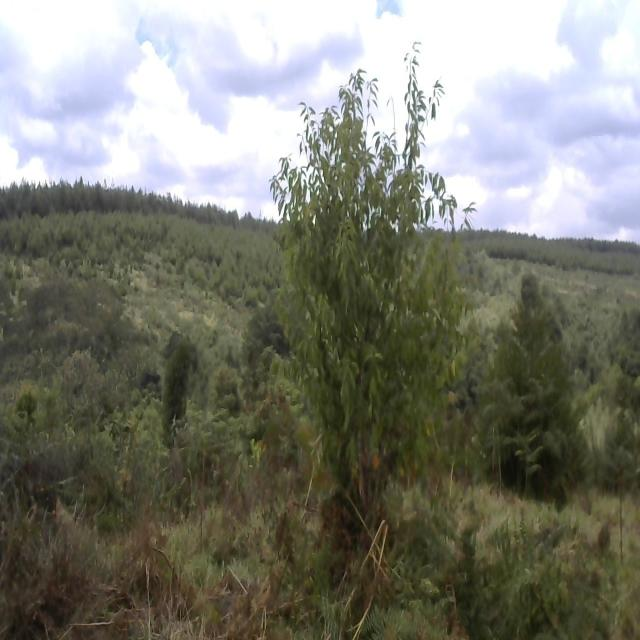other: (277, 22, 471, 538)
